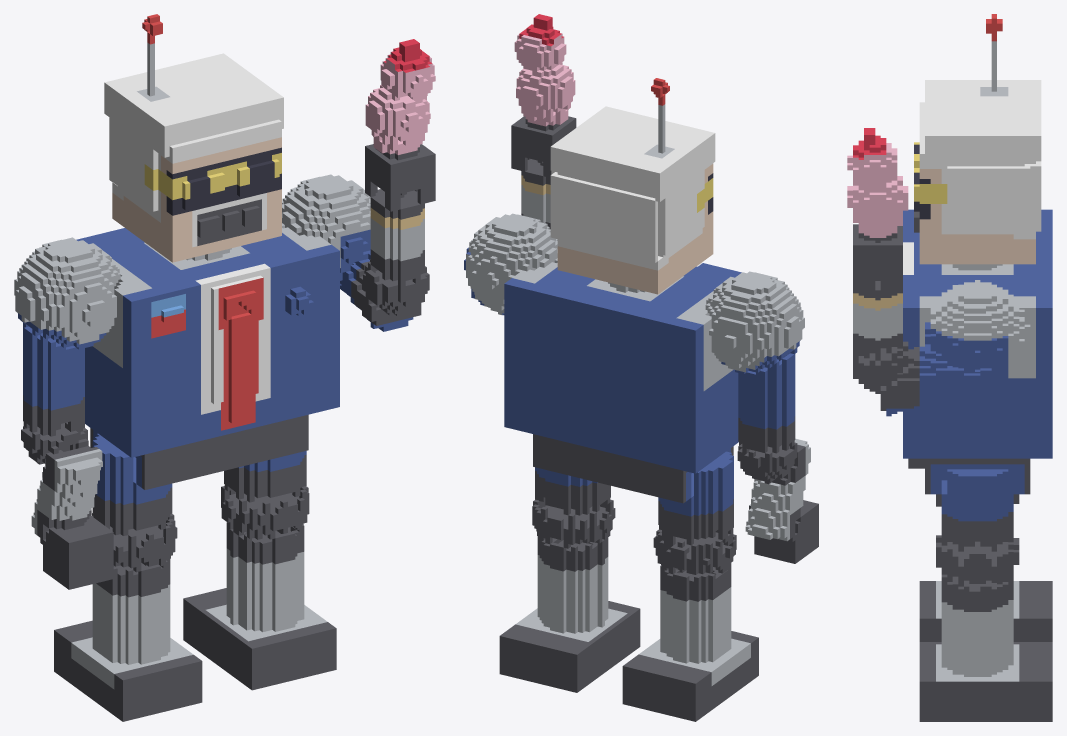
The model's file is mecha_biden.glb.
3 renders of one model, left to right at view 1: azimuth 30°, elevation 25°; view 2: azimuth 150°, elevation 25°; view 3: azimuth 270°, elevation 25°, orthographic. The views are drawn at different scales.
Visible parts, largest first — view 1: MechaBiden; view 2: MechaBiden; view 3: MechaBiden.
Part boxes in pixels (x1=…): MechaBiden: x1=14, y1=14, x2=435, y2=721; MechaBiden: x1=464, y1=14, x2=818, y2=721; MechaBiden: x1=847, y1=14, x2=1052, y2=721.
Size of the model in its own units: 4.76 by 8.52 by 2.48.
